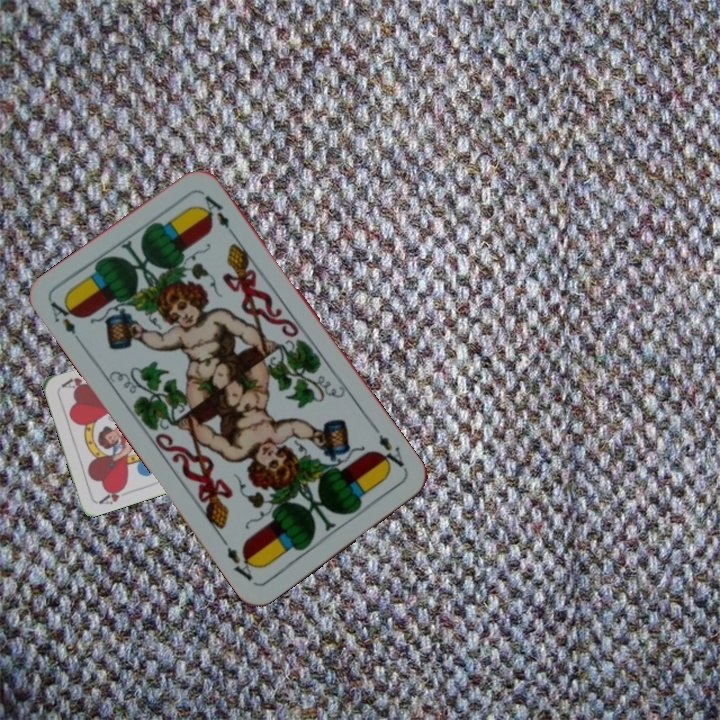EA: (46, 294, 86, 349), (369, 423, 407, 473)
HA: (94, 481, 129, 507)
